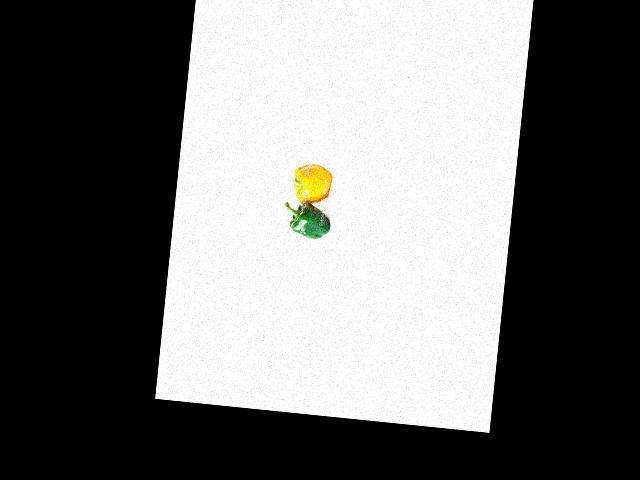bell_pepper: (285, 201, 338, 244)
